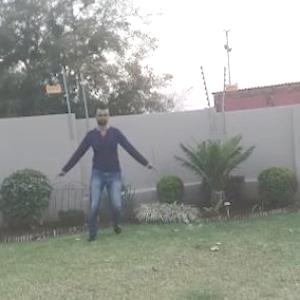land: (53, 107, 155, 242)
